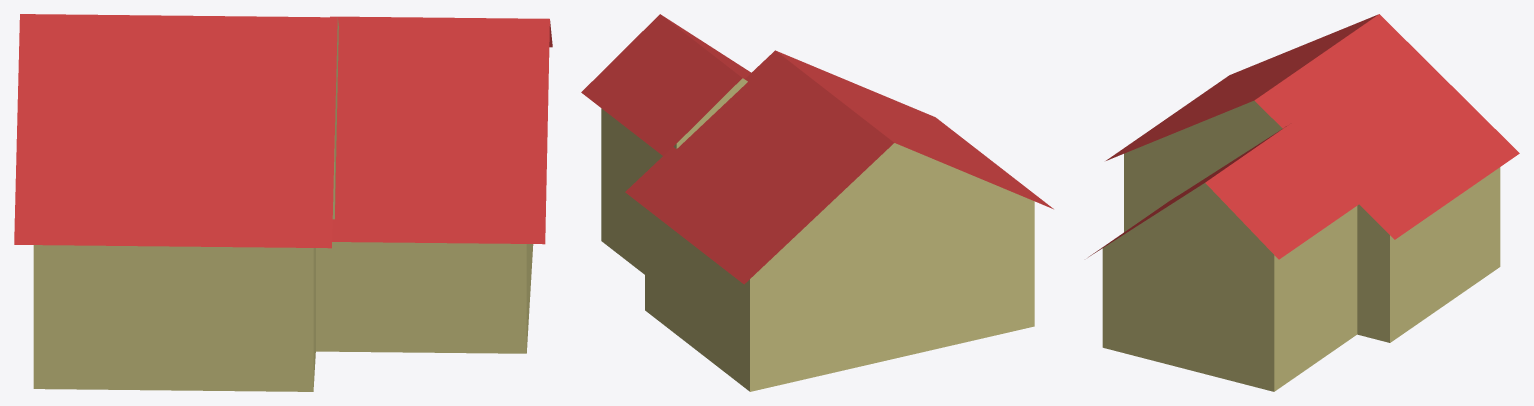
3 renders of one model, left to right at view 1: azimuth 30°, elevation 25°; view 2: azimuth 150°, elevation 25°; view 3: azimuth 270°, elevation 25°, orthographic. The views are drawn at different scales.
Size of the model in its own units: 34.84 by 30.57 by 16.57.
